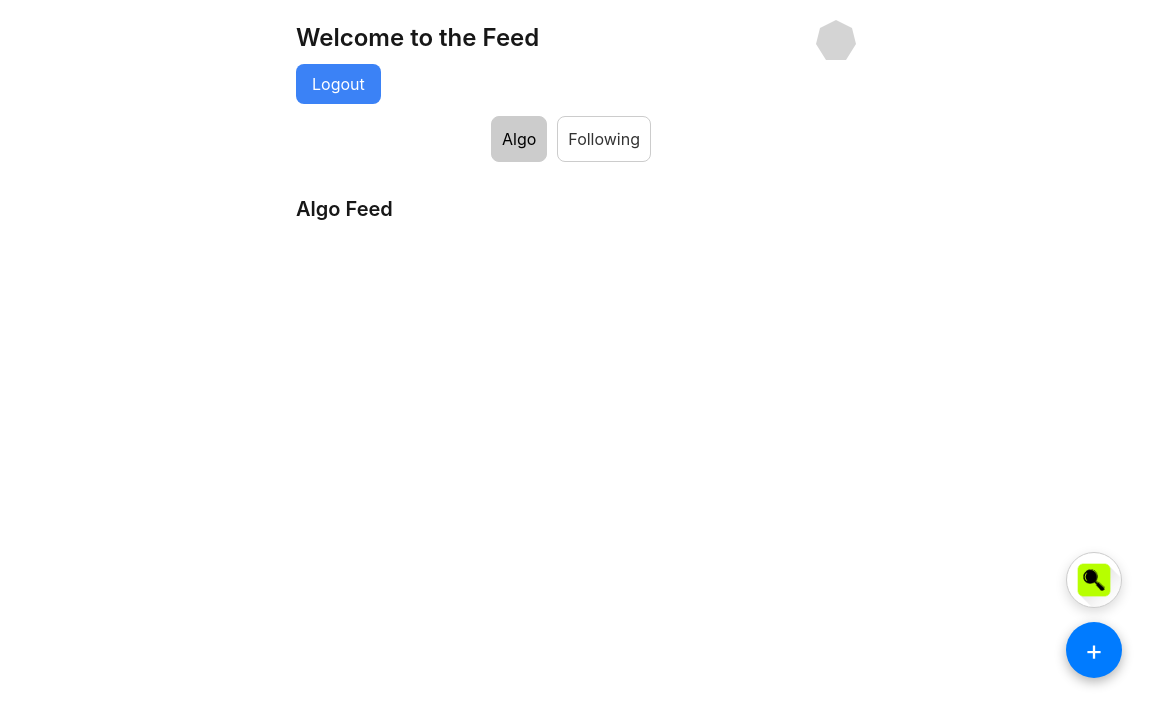
Test: Regression #23: Composer is in FAB modal, not inline › closing modal via X button hides composer
Click the button named "New post" at point(1094, 650), box [1066,622,1122,678]
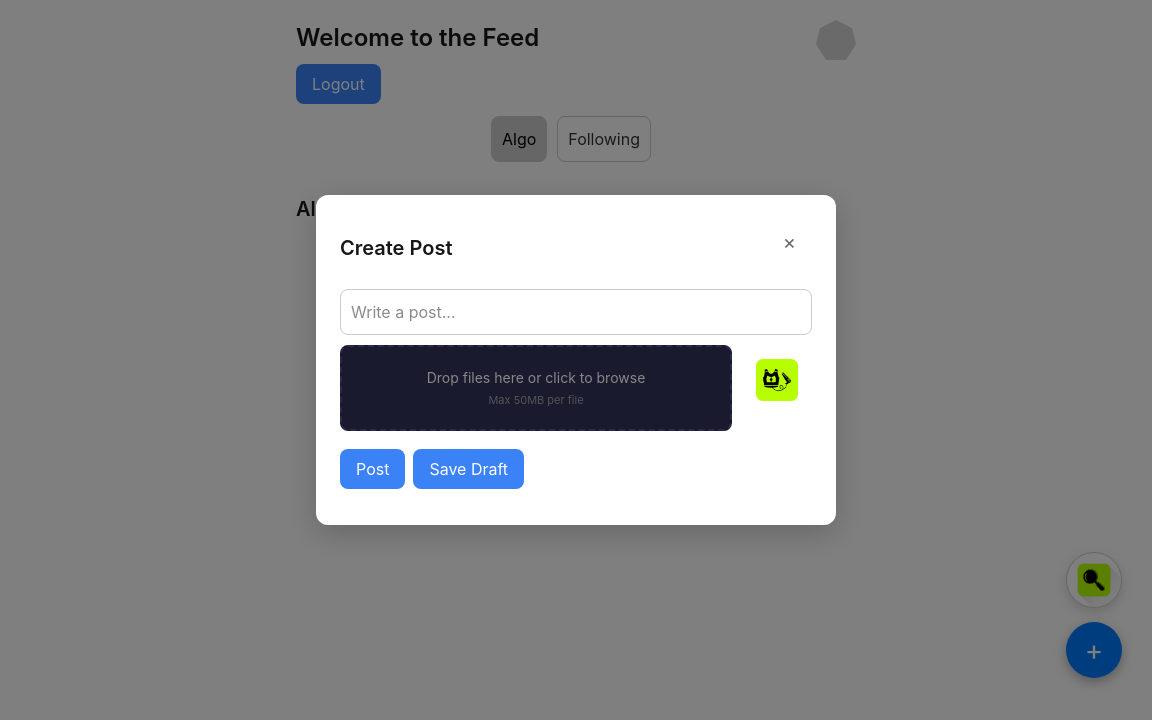
Now the heading "Create Post" is shown, box [340,233,452,263]
Click the button named "Close composer" at point(789, 242), box [767,219,812,265]
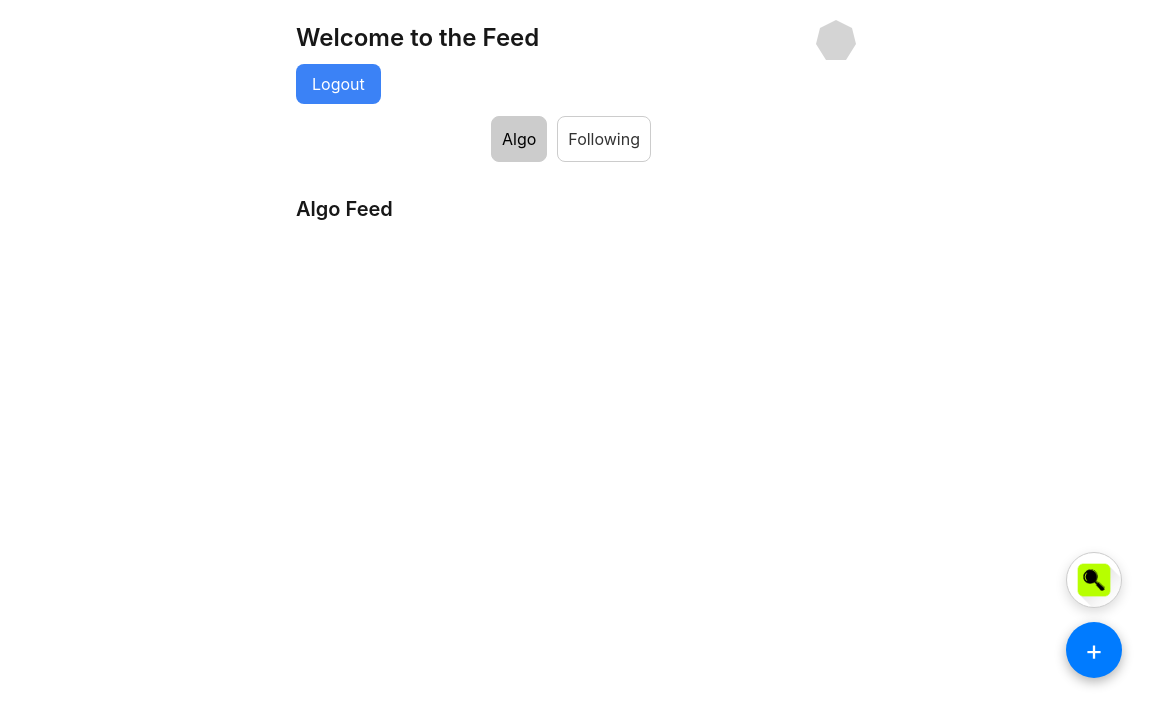
Now the heading "Create Post" is gone
